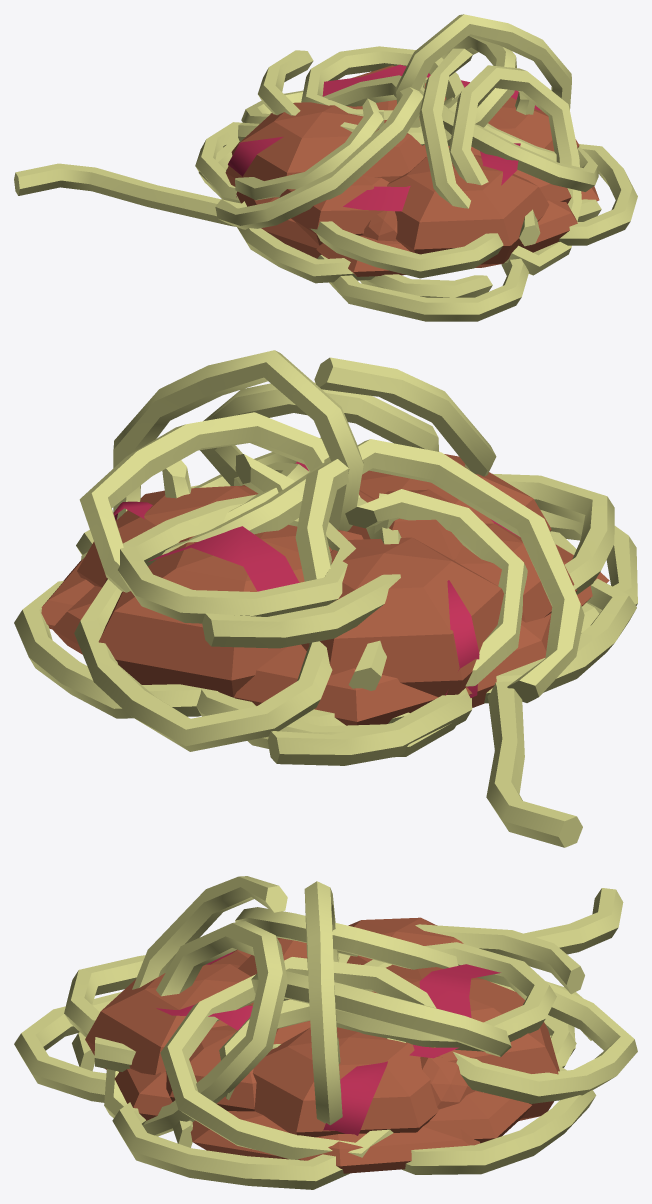
The model's file is Bolognese1.fbx.
The picture shows the model from 3 angles, top to bottom: view 1: azimuth 30°, elevation 25°; view 2: azimuth 150°, elevation 25°; view 3: azimuth 270°, elevation 25°; orthographic projection. The views are drawn at different scales.
Parts seen in each view (by area): view 1: BologneseBody; view 2: BologneseBody; view 3: BologneseBody.
Part boxes in pixels (left/top/right/bottom): BologneseBody: left=14, top=14, right=637, bottom=321; BologneseBody: left=14, top=350, right=637, bottom=847; BologneseBody: left=14, top=876, right=637, bottom=1189.
Bounding box in the file's own units: 2.27 × 0.9525 × 2.1.
